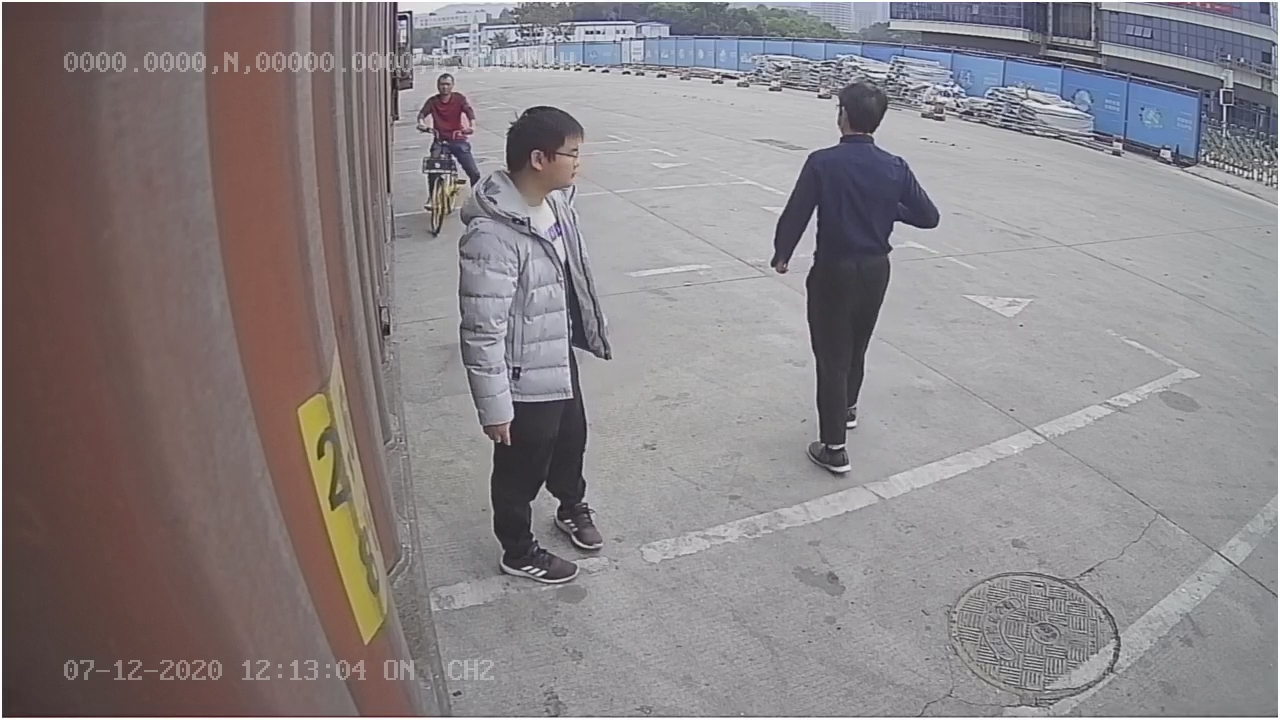person: (447, 96, 635, 605), (770, 73, 938, 473)
